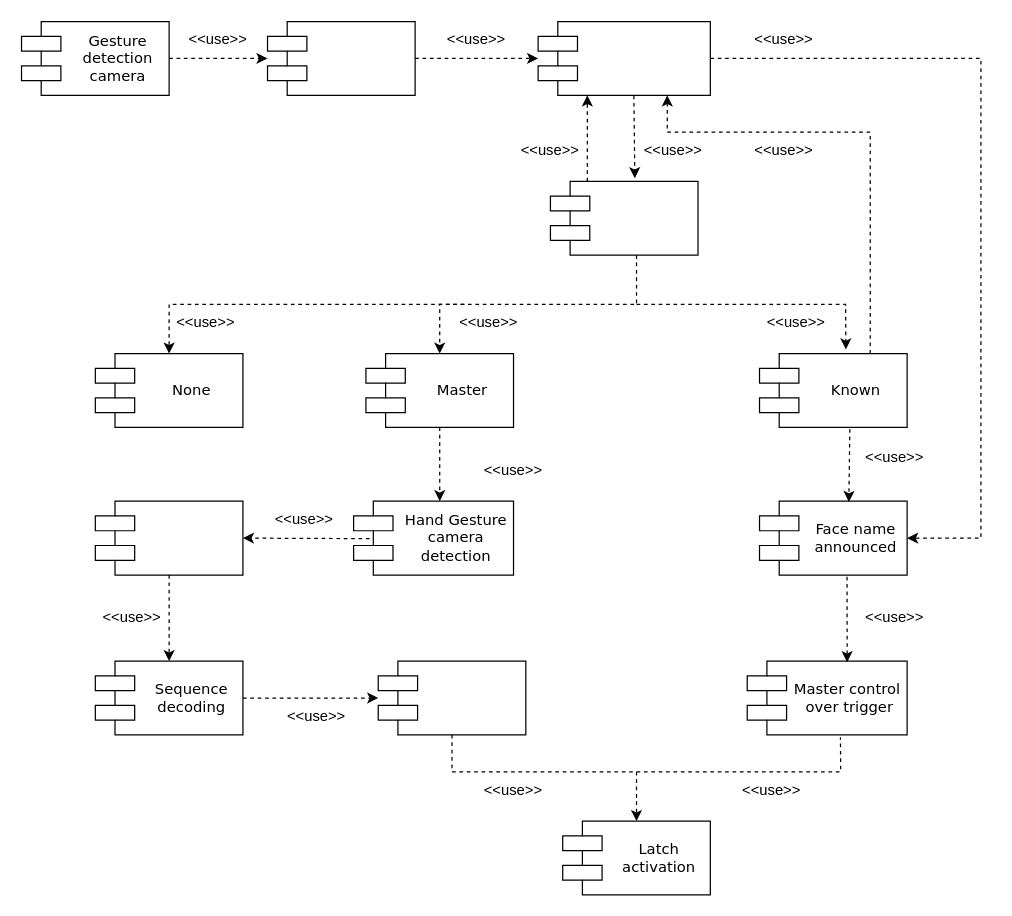
This 1012x916 diagram has some shape labels left out. The shapes that lost their labels are listed below. From the top down, each one's box as (x1, y1, x2, y2) in pixels, then its label:
(266, 20, 415, 95): Server (Backend)
(537, 20, 710, 95): User Database (Face Detection)
(549, 180, 698, 255): Face Classifier
(94, 500, 243, 575): Stack Checking
(377, 660, 526, 735): Matching with stored key
